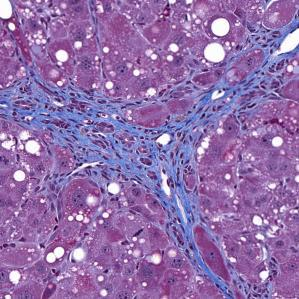fibrosis: (18, 77, 201, 190), (210, 30, 296, 117), (164, 197, 208, 244)
